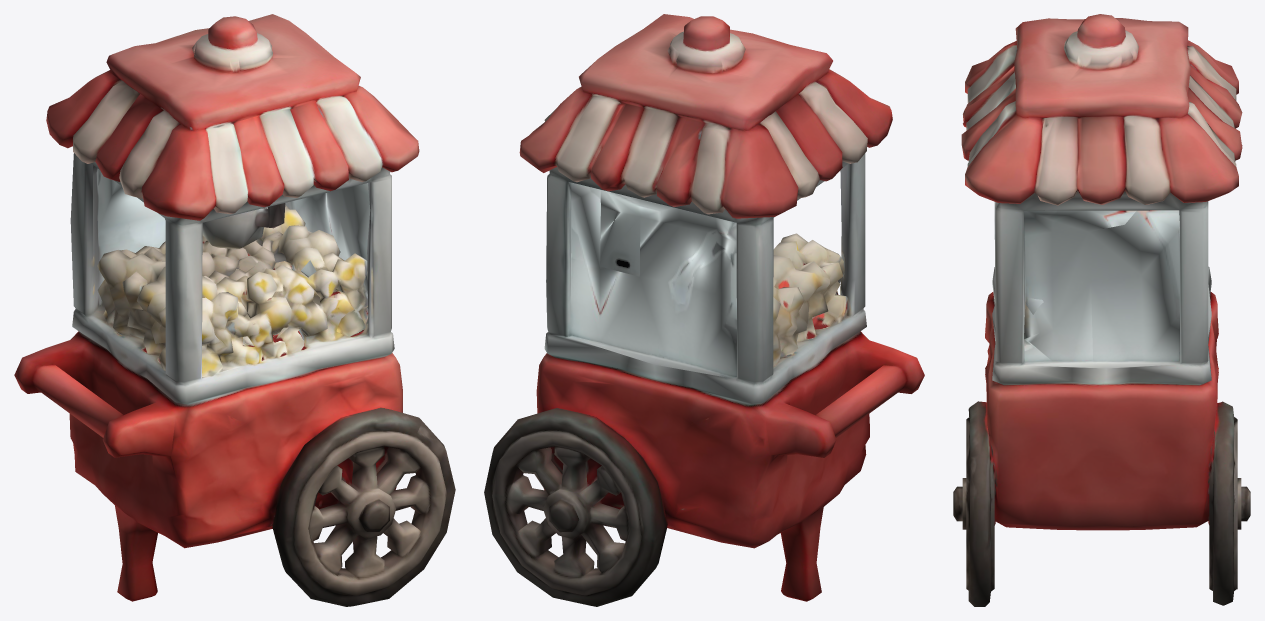
The model's file is misir.glb.
3 views of the same model, side by side, from view 1: azimuth 30°, elevation 25°; view 2: azimuth 150°, elevation 25°; view 3: azimuth 270°, elevation 25° (orthographic).
Parts seen in each view (by area): view 1: tripo_node_629acb87-2aa1-4959-95ca-254d87e645a0; view 2: tripo_node_629acb87-2aa1-4959-95ca-254d87e645a0; view 3: tripo_node_629acb87-2aa1-4959-95ca-254d87e645a0.
Part boxes in pixels (x1,y1,x2,y2): tripo_node_629acb87-2aa1-4959-95ca-254d87e645a0: (14, 14, 455, 606); tripo_node_629acb87-2aa1-4959-95ca-254d87e645a0: (484, 14, 924, 606); tripo_node_629acb87-2aa1-4959-95ca-254d87e645a0: (953, 14, 1250, 606).
Bounding box in the file's own units: 0.6106 × 0.9782 × 0.4843.
Materials: 1 (1 with a texture image).
